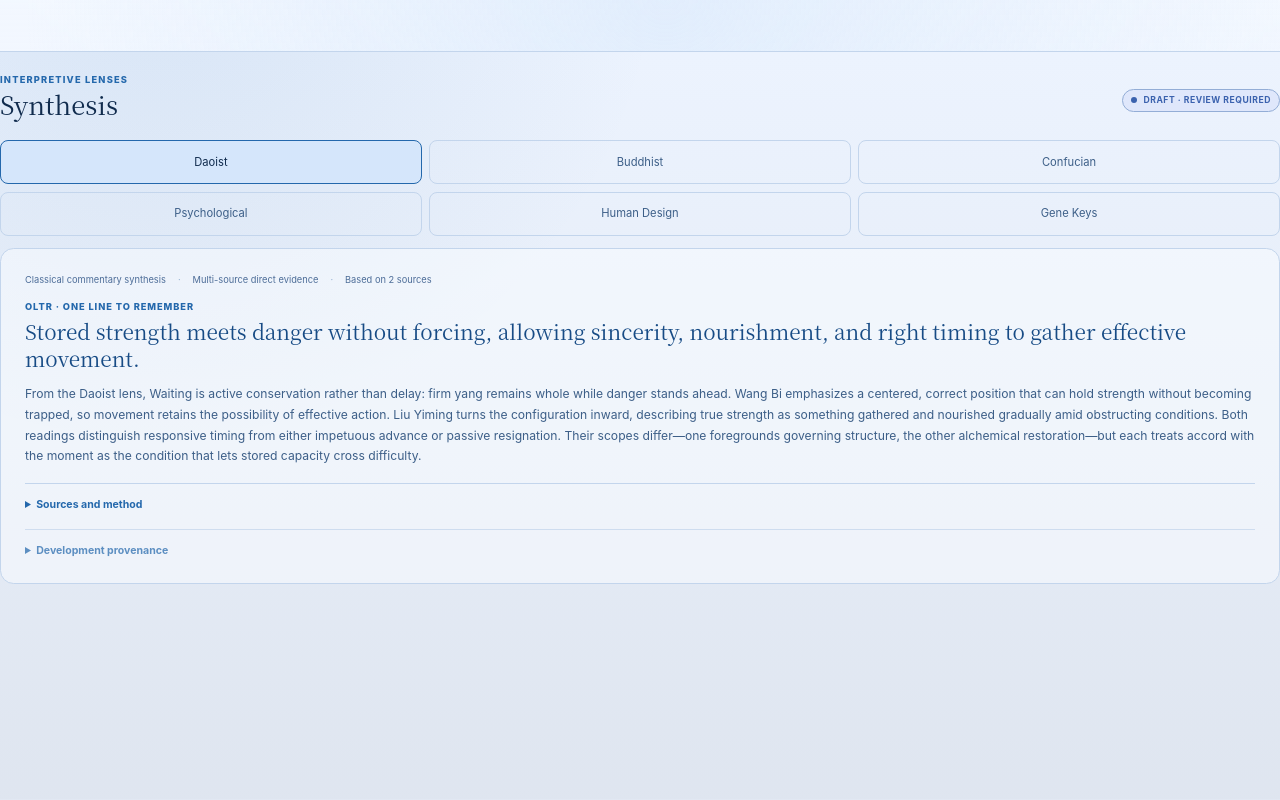
HexagramCommentaryPanel › renders six grounded lenses, source disclosure, and a calm insufficient state
The width and height of the screenshot is (1280, 800).
Expected: the element with class "commentary-panel__main" is shown, [25,274,1255,559]
Expected: the number of tabs is 6, [0,140,422,184]; [429,140,851,184]; [858,140,1279,184]; [0,192,422,236]; [429,192,851,236]; [858,192,1279,236]
Click the heading "Sources and method". click: click(84, 505)
box: [25,497,142,513]
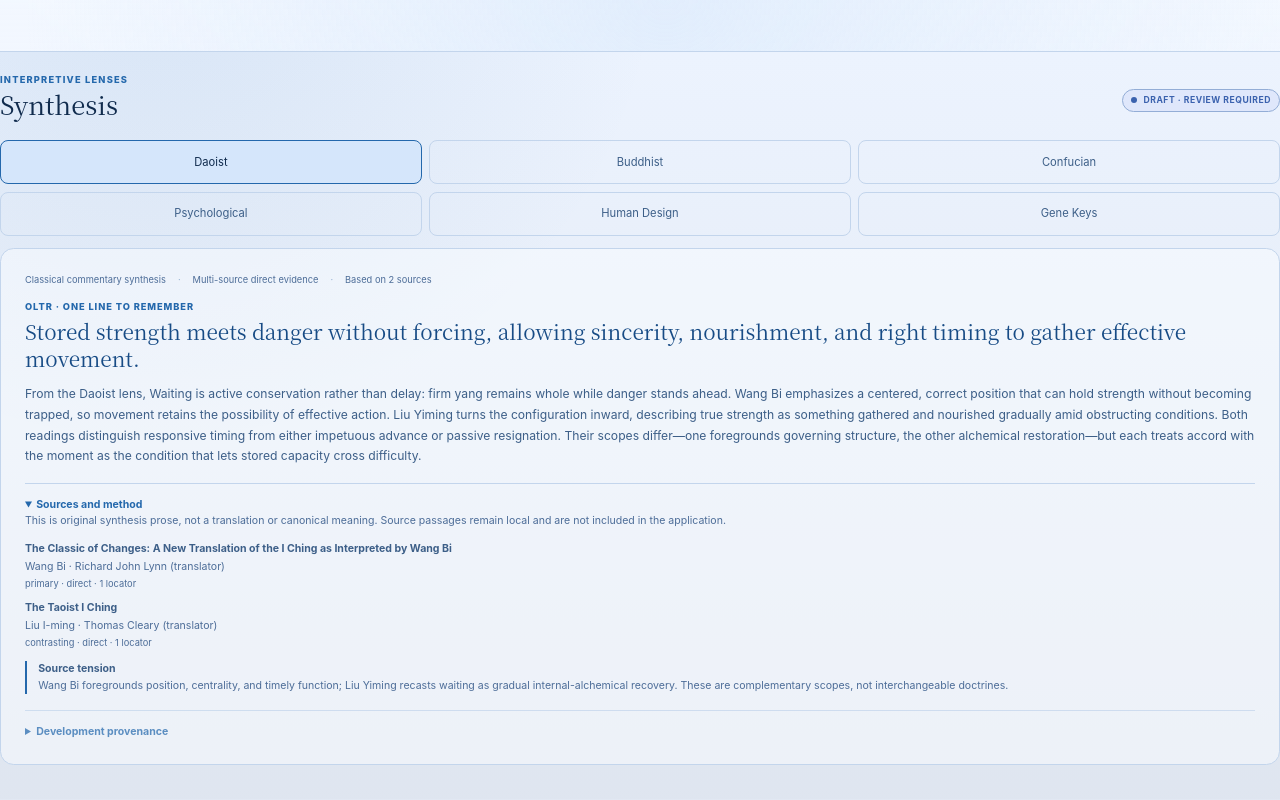
Now the element with class "commentary-sources" shows "The Classic of Changes", box [25,542,452,555]
Click the tab "Buddhist". click: click(640, 162)
box: [429,140,851,184]
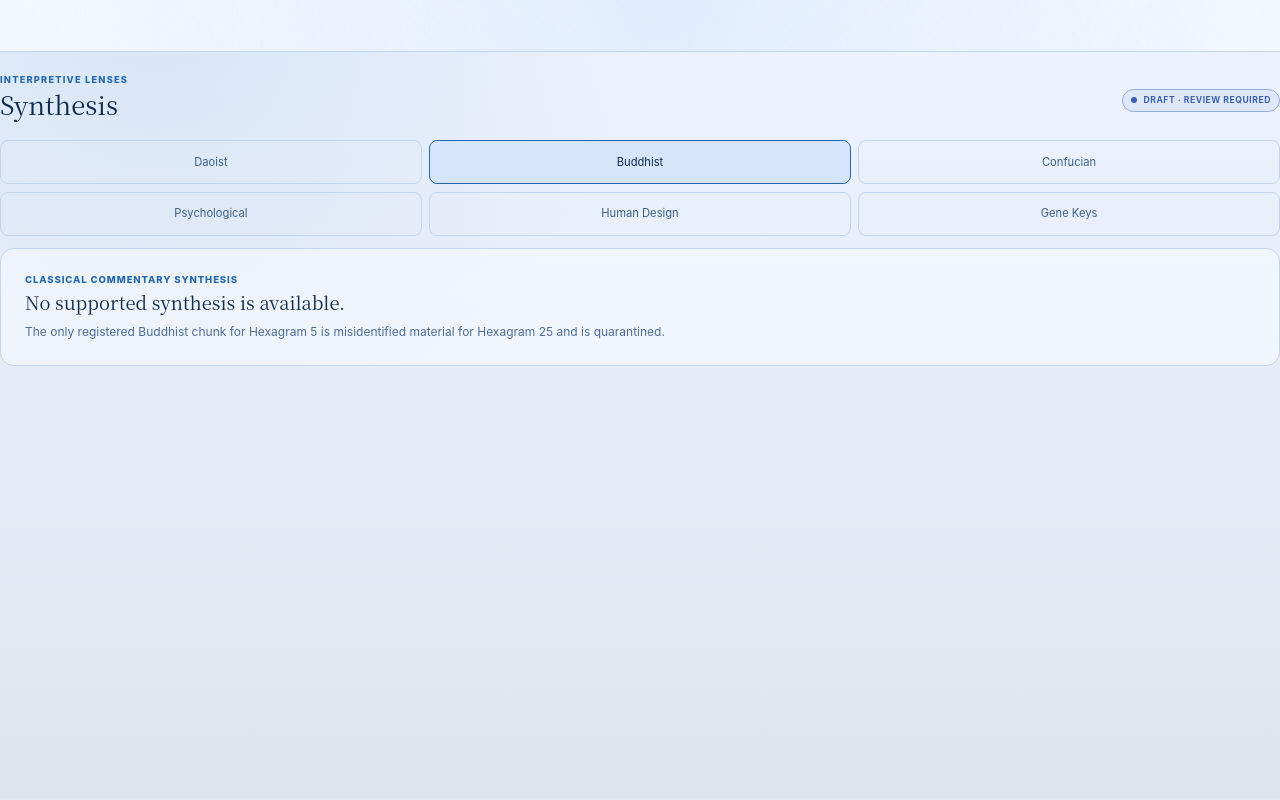
Now the panel shows "No supported synthesis is available", box [25,289,345,315]
Now the panel shows "misidentified", box [25,324,665,338]
